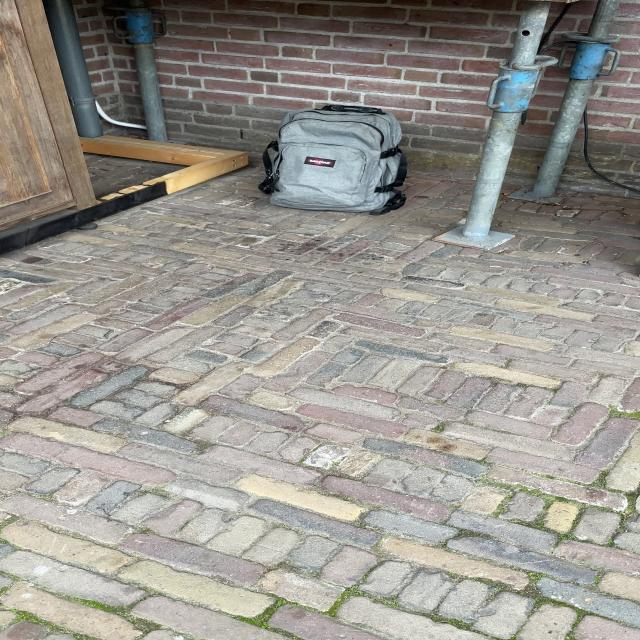backpack: (252, 100, 416, 216)
